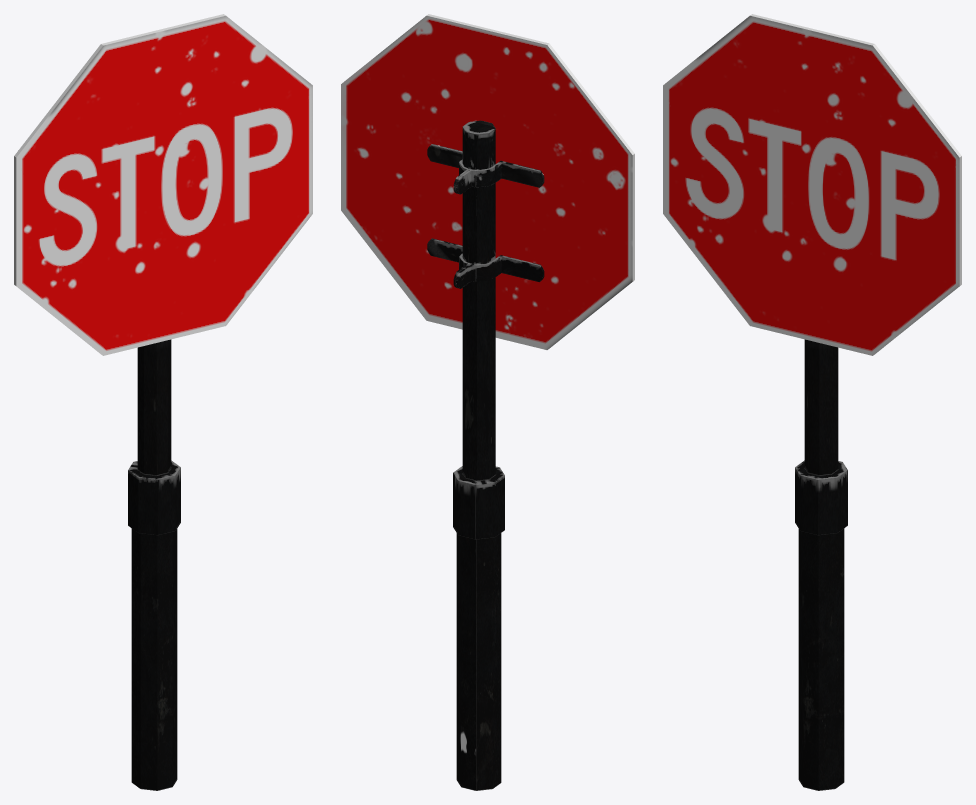
File: stopsign.obj
The picture shows the model from 3 angles, left to right: view 1: azimuth 30°, elevation 25°; view 2: azimuth 150°, elevation 25°; view 3: azimuth 330°, elevation 25°; orthographic projection.
Size of the model in its own units: 1.85 by 4.51 by 0.3947.
Materials: 1 (1 with a texture image).
